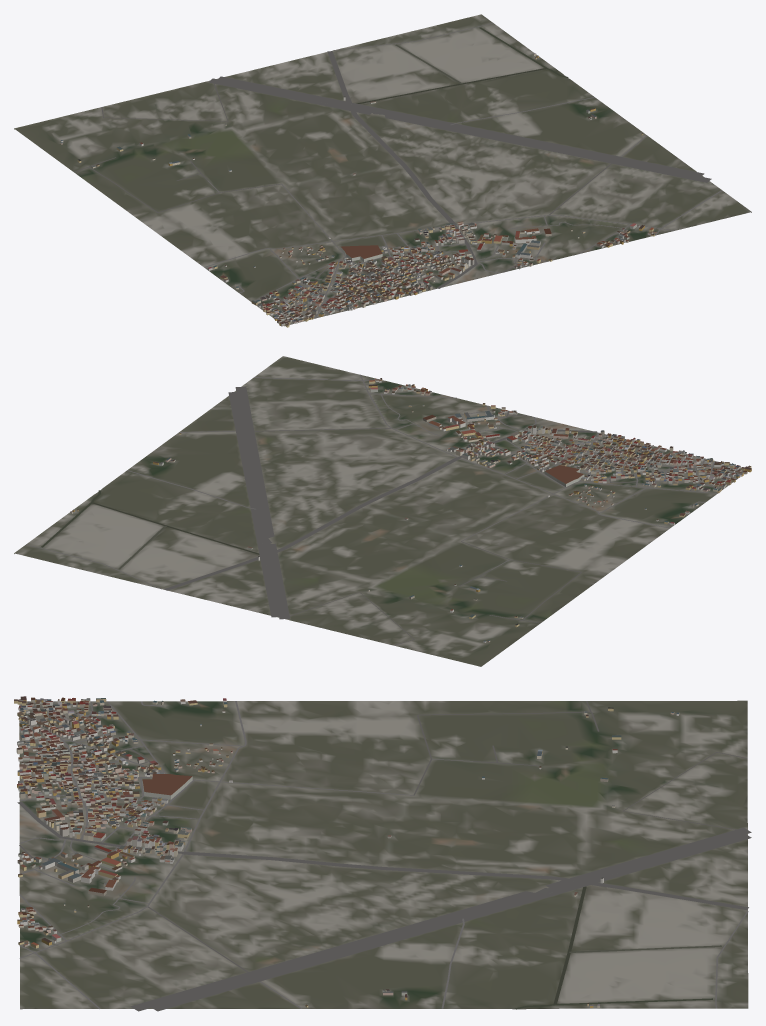
3 renders of one model, top to bottom at view 1: azimuth 30°, elevation 25°; view 2: azimuth 150°, elevation 25°; view 3: azimuth 270°, elevation 25°, orthographic. The views are drawn at different scales.
Parts seen in each view (by area): view 1: ground, buildings, roads, water; view 2: ground, buildings, roads, water; view 3: ground, buildings, roads, water.
Boxes of the visible parts, x1,y1,x2,y2 form: ground: (14,14,751,326); buildings: (60,53,656,327); roads: (74,22,722,318); water: (356,27,568,103); ground: (14,356,743,666); buildings: (70,378,751,642); roads: (26,374,742,645); water: (41,490,259,569); ground: (19,700,748,1009); buildings: (14,696,679,1007); roads: (17,701,751,1011); water: (515,886,721,1009).
Bounding box in the file's own units: 1421 × 22.28 × 1421.
